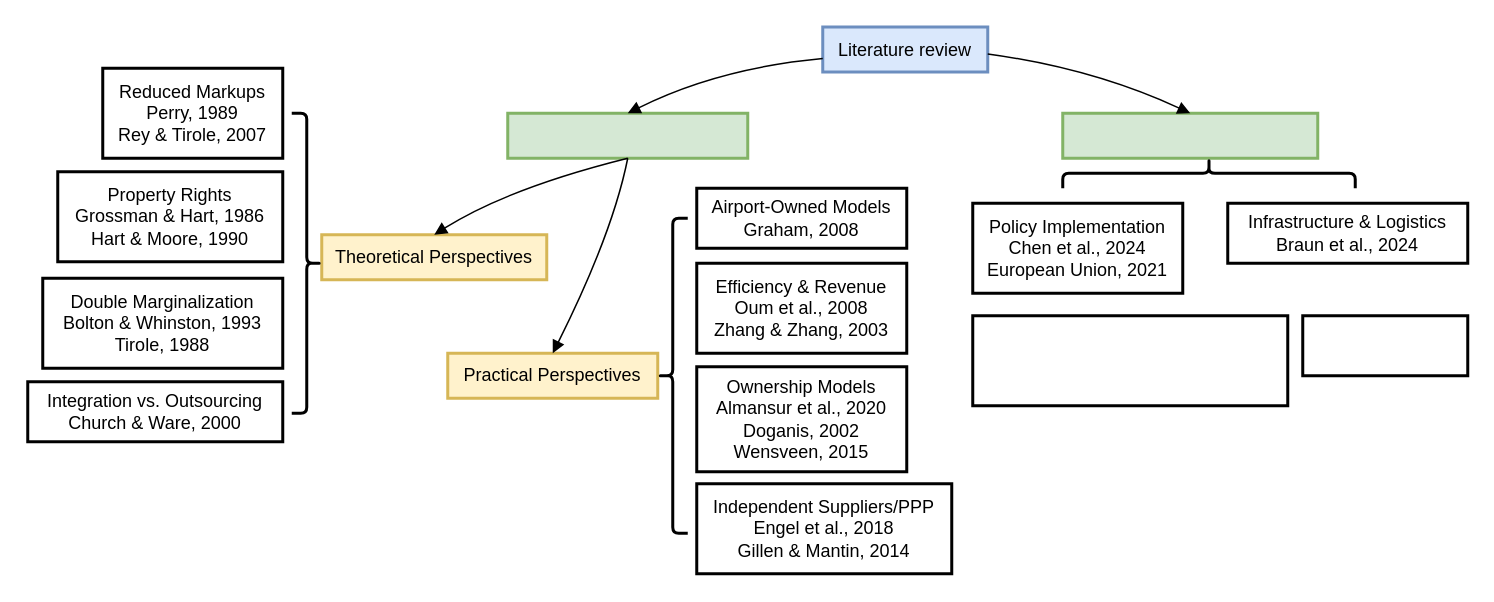
The diagram is 1494 pixels wide and 602 high, and some of its shapes have lost their labels. The shapes that lost their labels are listed below. From the top down, each one's centre as x and y in pixels, then its label:
At (x=627, y=135): "Airport Vertical Integration".
At (x=1189, y=135): "SAF Implementation Impact".
At (x=1129, y=360): "Environmental & Economic Impact Jiang & Liu, 2025 Zheng et al., 2024".
At (x=1384, y=345): "Airport Planning ACI, 2022".
